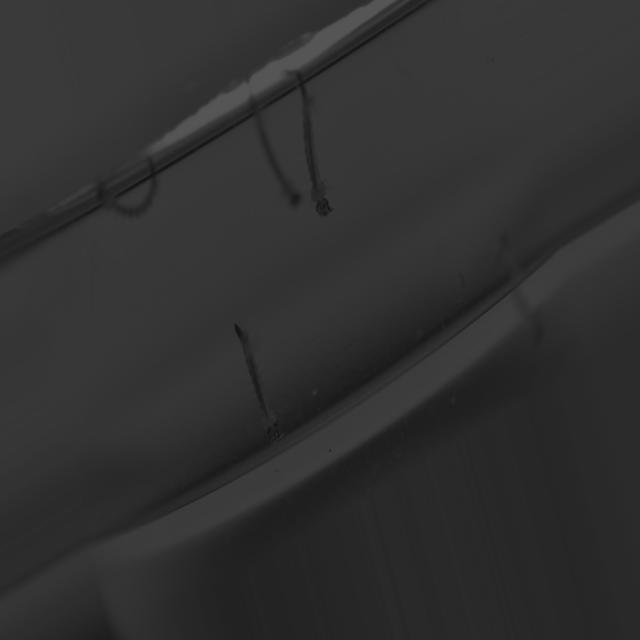larvas: (287, 57, 337, 223), (232, 314, 288, 454), (93, 146, 171, 240), (247, 87, 303, 213)
